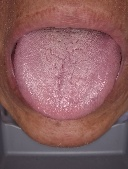tongue: (13, 40, 123, 123)
